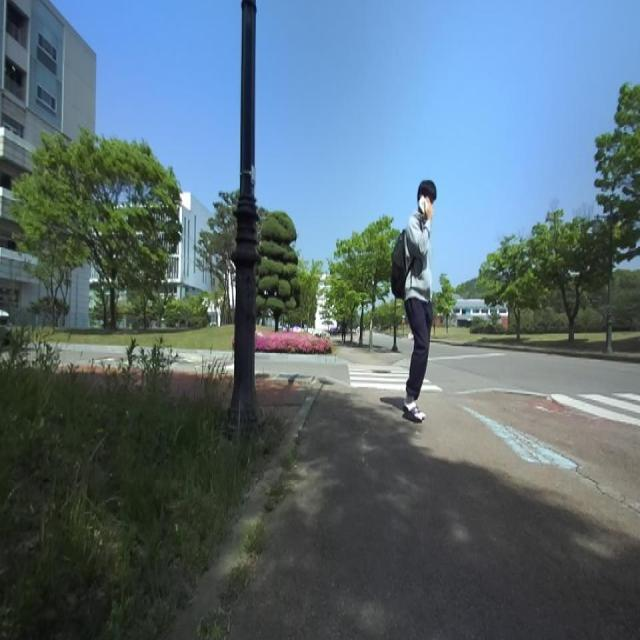sidewalk: (202, 384, 640, 640)
